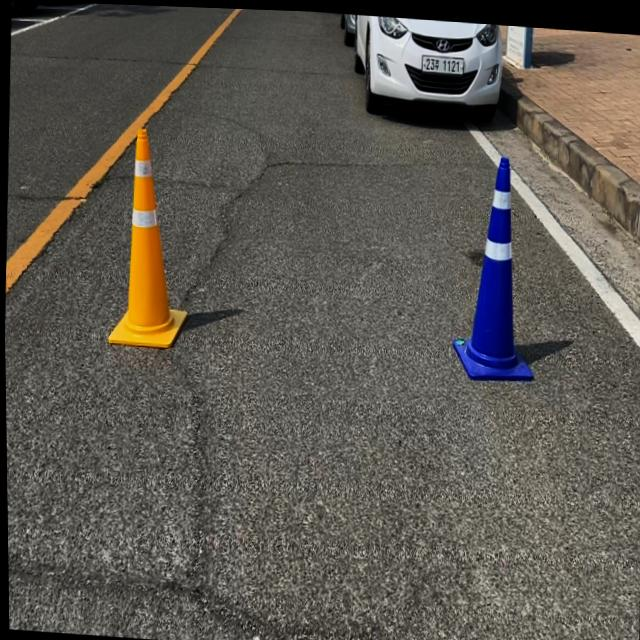b_rub: (452, 152, 532, 376)
y_rub: (106, 126, 186, 345)
